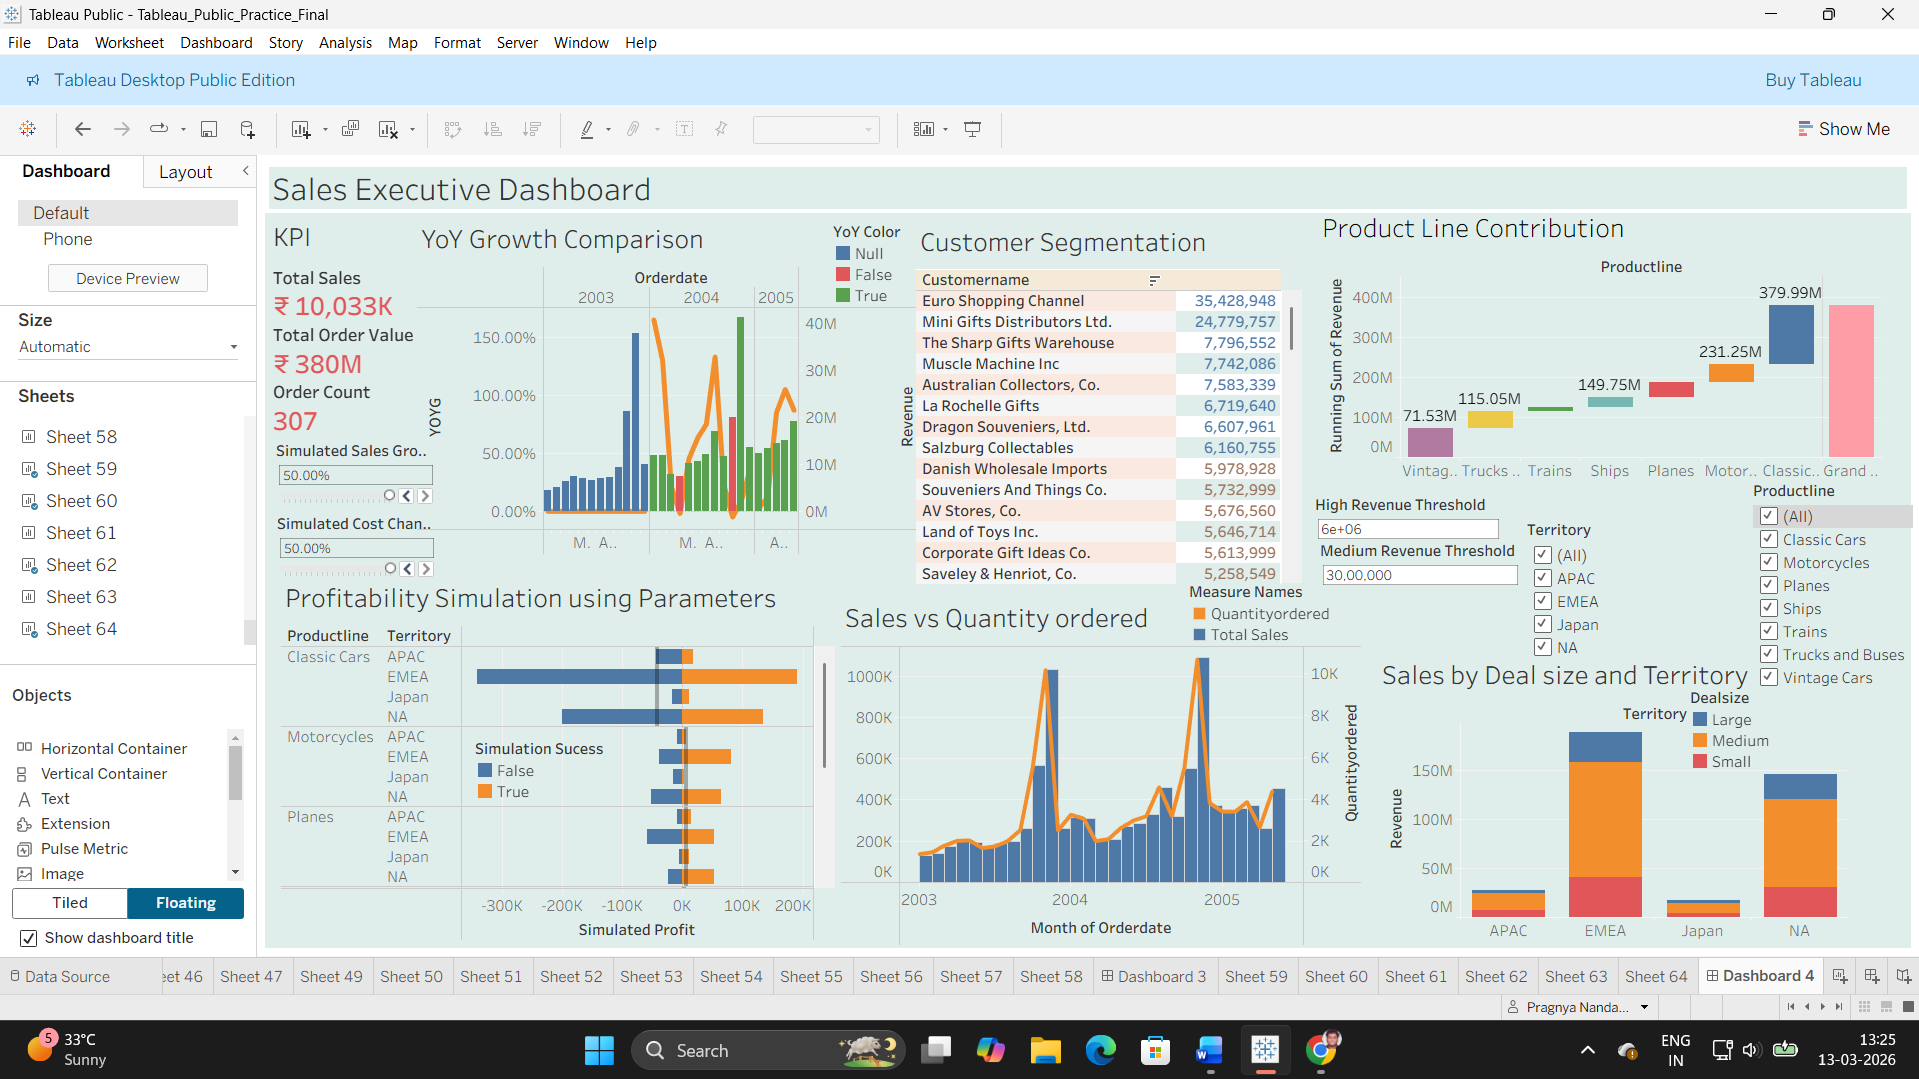

This screenshot's page, from the dashboard's own definition file:
{"tool":"tableau","page":{"name":"Dashboard 4","canvas":[1000,1000],"units":"permille","ordinal":3},"visuals":[{"type":"title","box":[4.8,10,990.4,62.4]},{"type":"worksheet","title":"Sheet 60","mark":"GanttBar","rows":["Calculation_3992920796295169"],"cols":["PRODUCTLINE"],"box":[638.5,63.7,339.2,344.6]},{"type":"worksheet","title":"Sheet 33","mark":"Automatic","box":[7.2,74.9,103.8,302.1]},{"type":"worksheet","title":"Sheet 59","mark":"Bar","rows":["Calculation_3992920796295169"],"cols":["Orderdate.1 (copy 2)_0919236749500417","Orderdate.1 (copy 2)_0919236749500417"],"box":[96.6,77.4,305.4,422]},{"type":"worksheet","title":"Sheet 54","mark":"Text","rows":["CUSTOMERNAME"],"box":[396.5,81.2,233.6,454.4]},{"type":"legend","title":"Sheet 59","param":"[federated.0wtqqmt0pq1bgl1bef5ex0yiscwp].[usr:Calculation_1032764473389058:nk:1]","box":[346.4,82.4,50.1,106.1]},{"type":"parameter","param":"[Parameters].[Parameter 8]","box":[11.5,355.8,96.6,88.6]},{"type":"filter","title":"Sheet 60","param":"[federated.0wtqqmt0pq1bgl1bef5ex0yiscwp].[none:PRODUCTLINE:nk]","box":[899.8,405.7,96.6,277.2]},{"type":"parameter","param":"[Parameters].[Parameter 3]","box":[636.7,423.2,112.2,59.9]},{"type":"parameter","param":"[Parameters].[Parameter 9]","box":[12.1,446.9,96.6,88.6]},{"type":"filter","title":"Sheet 53","param":"[federated.0wtqqmt0pq1bgl1bef5ex0yiscwp].[none:TERRITORY:nk]","box":[764,454.4,56.1,178.5]},{"type":"parameter","param":"[Parameters].[Parameter 4]","box":[639.7,480.7,120.7,59.9]},{"type":"worksheet","title":"Sheet 64","mark":"Automatic","rows":["PRODUCTLINE","TERRITORY"],"cols":["Calculation_1032764499902470"],"box":[14.5,525.6,333.1,455.7]},{"type":"legend","title":"Sheet 62","param":"[federated.0wtqqmt0pq1bgl1bef5ex0yiscwp].[:Measure Names]","box":[560.6,531.8,90.5,86.1]},{"type":"worksheet","title":"Sheet 62","mark":"Automatic","rows":["SALES","QUANTITYORDERED"],"cols":["Orderdate.1 (copy 2)_0919236749500417"],"box":[351.2,550.6,313.2,436.9]},{"type":"worksheet","title":"Sheet 53","mark":"Automatic","rows":["Calculation_3992920796295169"],"cols":["TERRITORY"],"box":[674.7,621.7,283.7,360.8]},{"type":"legend","title":"Sheet 53","param":"[federated.0wtqqmt0pq1bgl1bef5ex0yiscwp].[none:DEALSIZE:nk]","box":[862.4,664.2,84.5,106.1]},{"type":"legend","title":"Sheet 64","param":"[federated.0wtqqmt0pq1bgl1bef5ex0yiscwp].[none:Calculation_1032764501610503:nk]","box":[131,727.8,84.5,79.9]}]}

Visuals, with their boxes on the dashboard's canvas, which has no fixed pixel size, in thousandths of its width and height (x1, y1, x2, y2). These are canvas units, not pixel positions in the 1919x1079 screenshot, which may show the page scaled, cropped or inside an application window:
title: [5, 10, 995, 72]
"Sheet 60" worksheet (GanttBar marks): [638, 64, 978, 408]
"Sheet 33" worksheet: [7, 75, 111, 377]
"Sheet 59" worksheet (Bar marks): [97, 77, 402, 499]
"Sheet 54" worksheet (Text marks): [396, 81, 630, 536]
"Sheet 59" legend: [346, 82, 396, 188]
parameter: [12, 356, 108, 444]
"Sheet 60" filter: [900, 406, 996, 683]
parameter: [637, 423, 749, 483]
parameter: [12, 447, 109, 536]
"Sheet 53" filter: [764, 454, 820, 633]
parameter: [640, 481, 760, 541]
"Sheet 64" worksheet: [14, 526, 348, 981]
"Sheet 62" legend: [561, 532, 651, 618]
"Sheet 62" worksheet: [351, 551, 664, 988]
"Sheet 53" worksheet: [675, 622, 958, 982]
"Sheet 53" legend: [862, 664, 947, 770]
"Sheet 64" legend: [131, 728, 216, 808]
